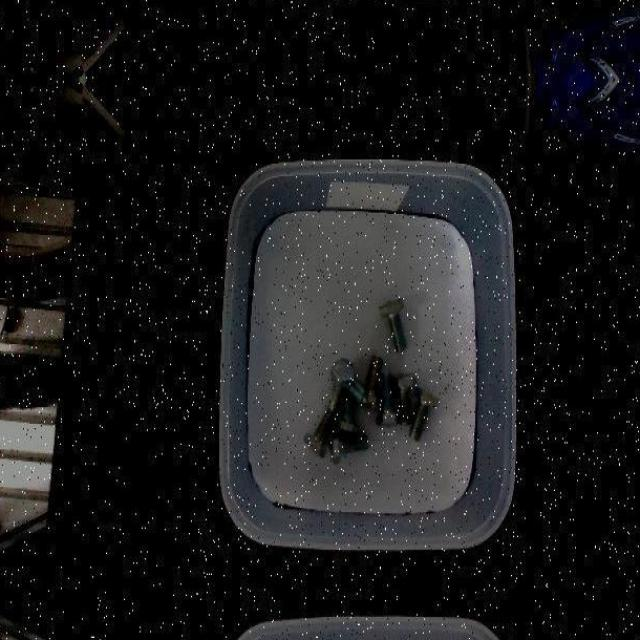screw: (407, 385, 439, 442), (302, 407, 336, 458), (374, 371, 402, 426), (380, 298, 408, 351), (391, 372, 416, 426), (328, 430, 370, 462), (329, 356, 354, 409)
